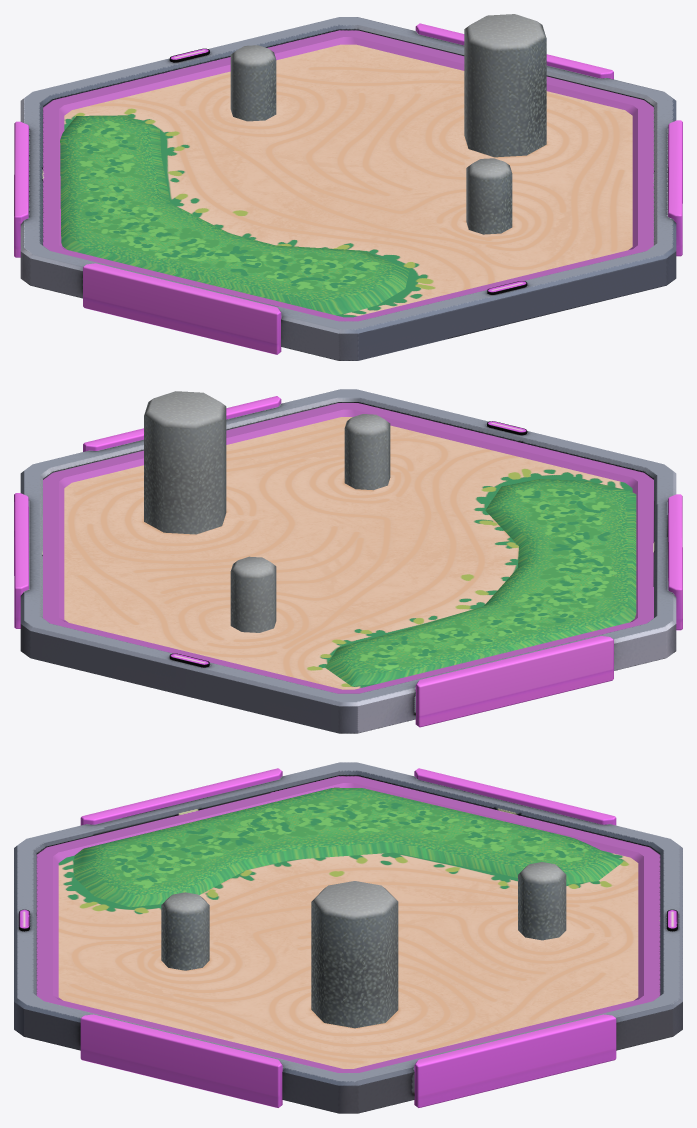
Rendered from HexagonLargeVIP01_Art.glb.
The picture shows the model from 3 angles, top to bottom: view 1: azimuth 30°, elevation 25°; view 2: azimuth 150°, elevation 25°; view 3: azimuth 270°, elevation 25°; orthographic projection. The views are drawn at different scales.
Parts seen in each view (by area): view 1: HexagonLargeVIP01_Art; view 2: HexagonLargeVIP01_Art; view 3: HexagonLargeVIP01_Art.
Boxes of the visible parts, box(x1,y1,x2,y2) form: HexagonLargeVIP01_Art: box(14, 14, 682, 360); HexagonLargeVIP01_Art: box(14, 389, 682, 733); HexagonLargeVIP01_Art: box(14, 762, 682, 1113).
Size of the model in its own units: 31.52 by 6.52 by 27.7.
Materials: 2 (2 with a texture image).
